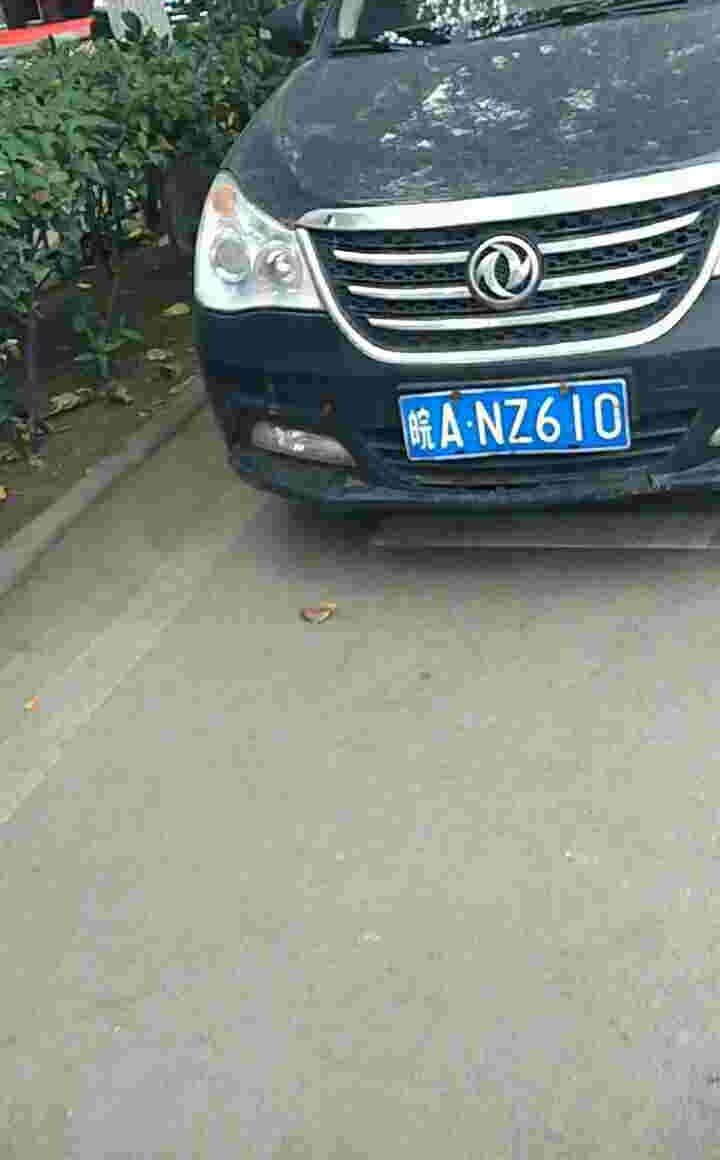license_plate: (406, 386, 624, 458)
